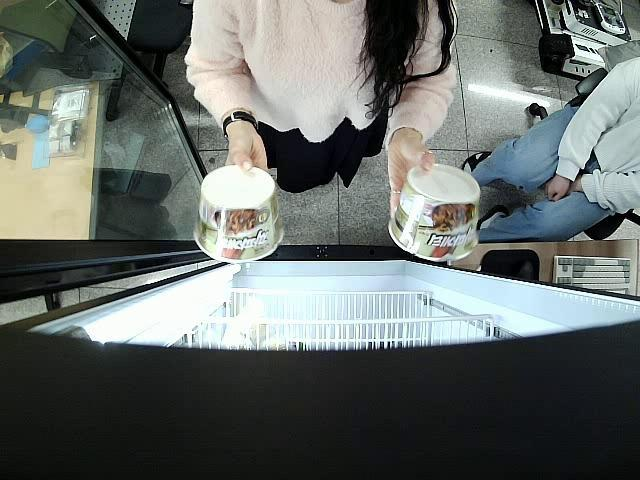03_chapagetti_L: (390, 165, 481, 264), (192, 167, 285, 260)
